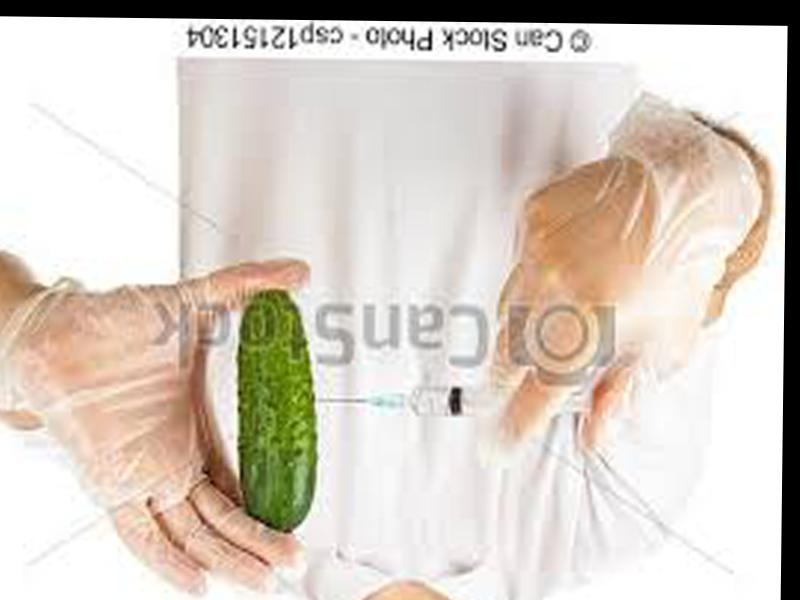Cucumber: (232, 291, 315, 539)
